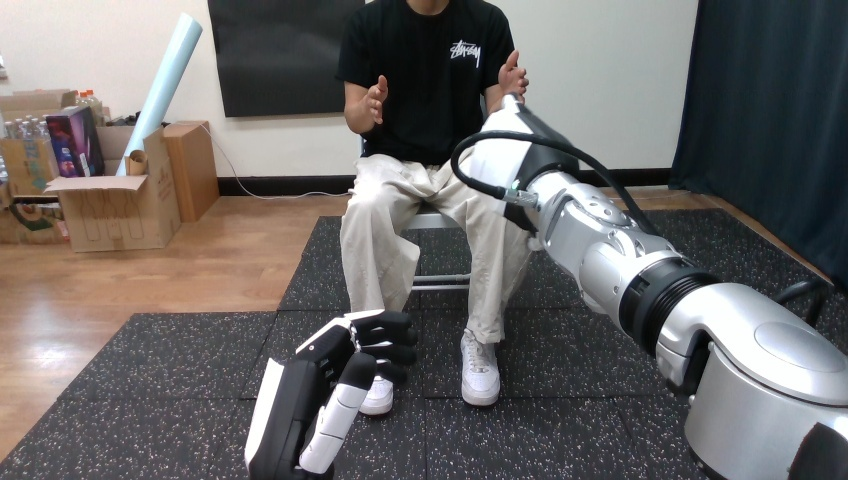left robot hand: (451, 95, 847, 478), (245, 309, 416, 478)
